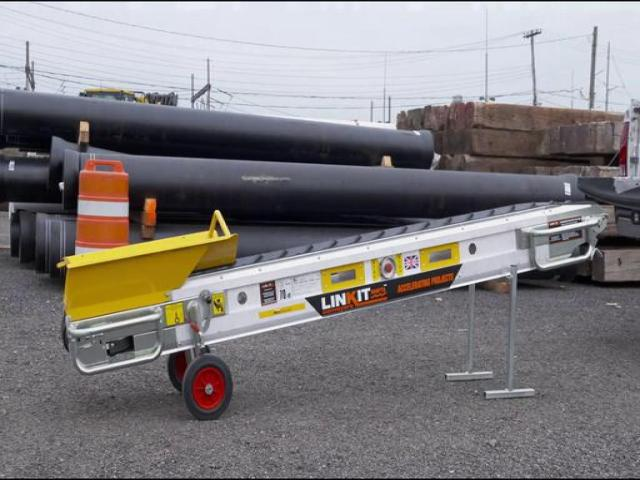conveyor: (53, 198, 612, 421)
